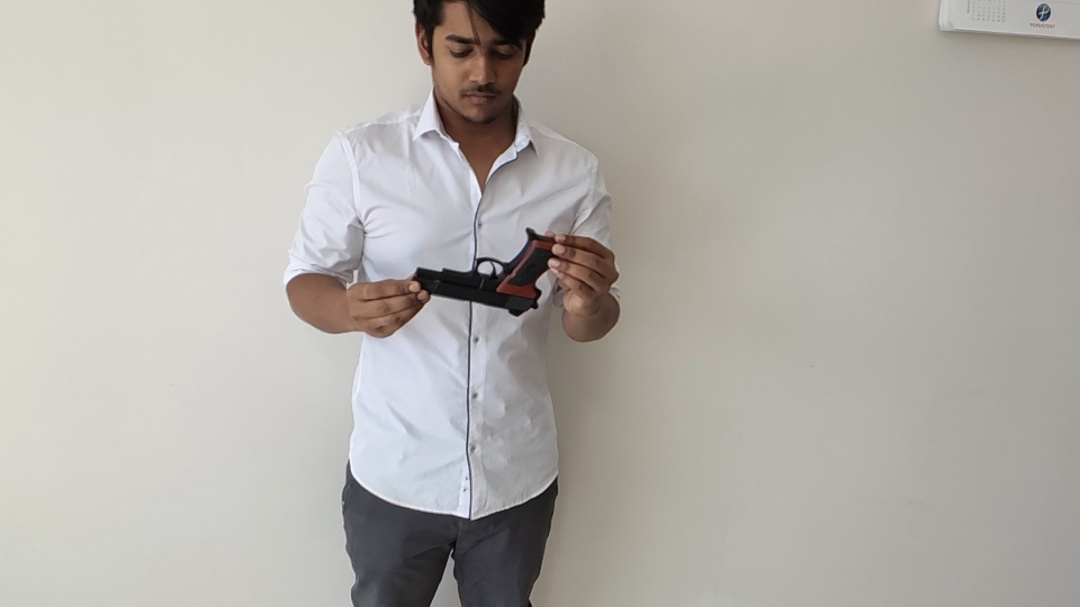gun: (412, 228, 560, 317)
